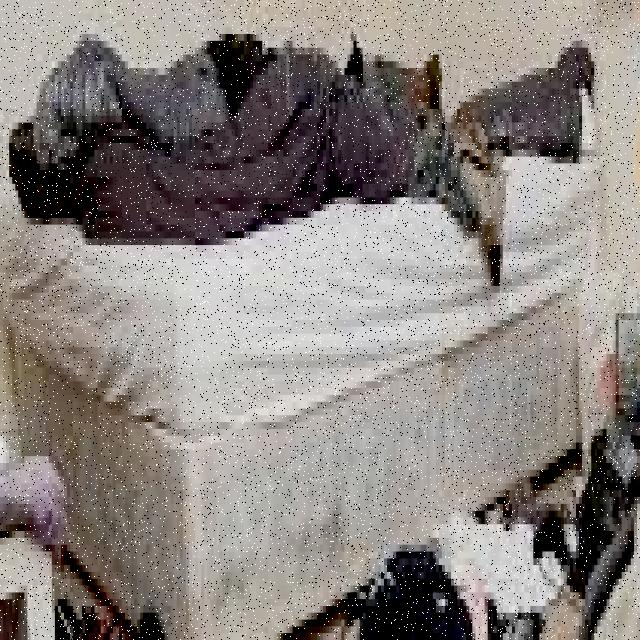bed: (8, 0, 603, 478)
